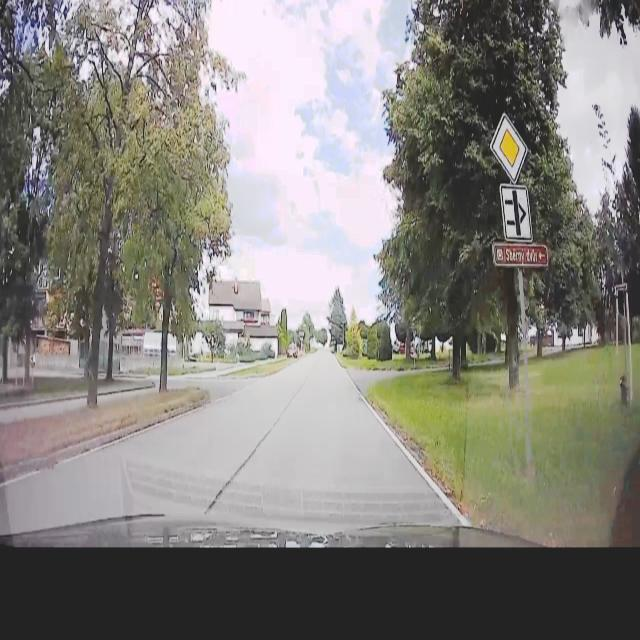Priority road: (488, 108, 528, 184)
